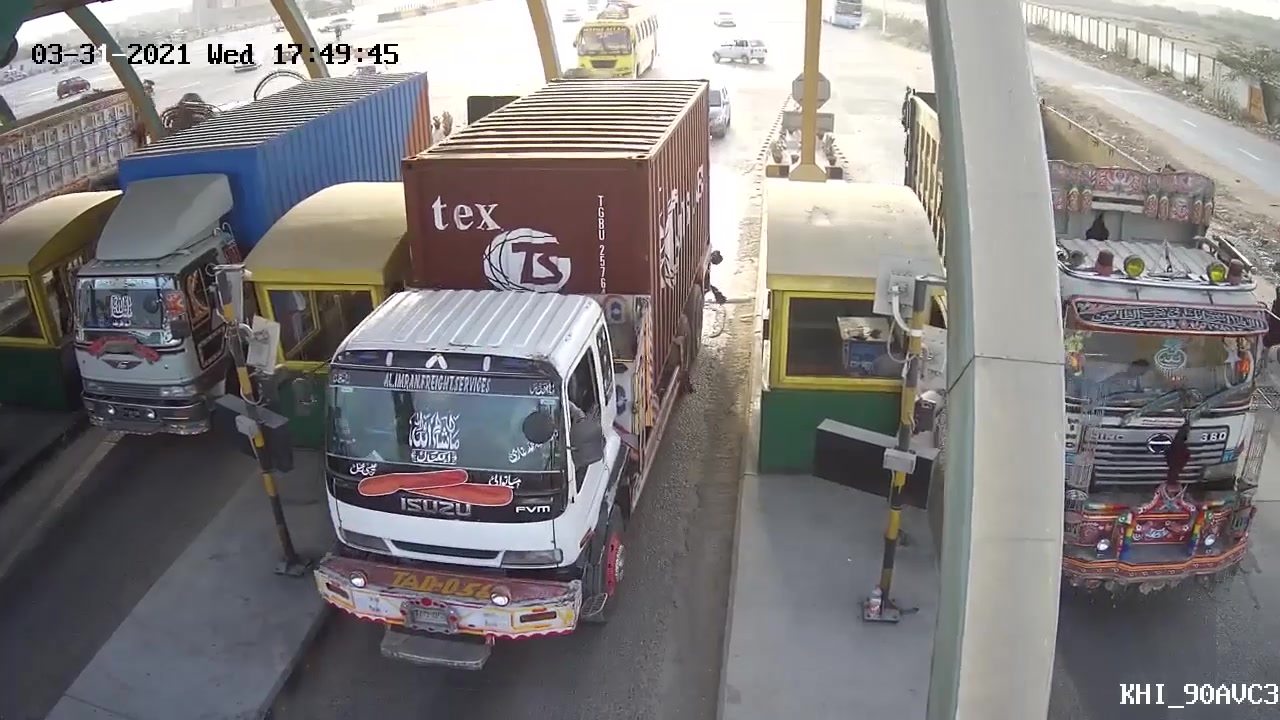F5: (314, 62, 727, 669)
